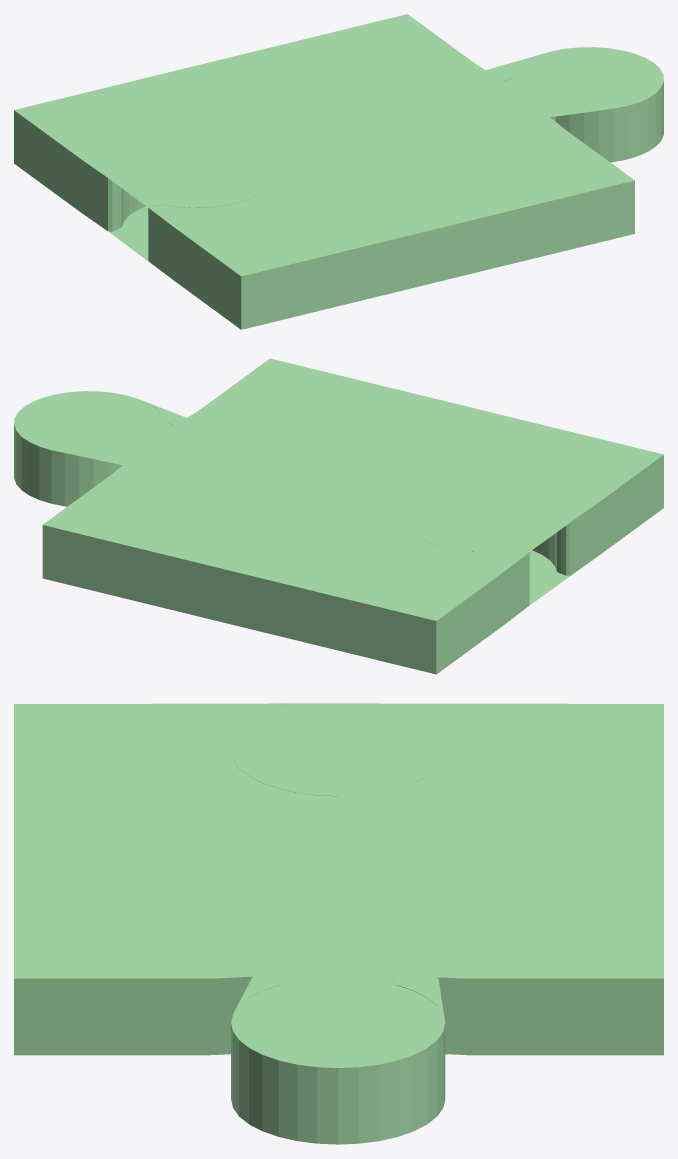
File: block_1.fbx
3 renders of one model, top to bottom at view 1: azimuth 30°, elevation 25°; view 2: azimuth 150°, elevation 25°; view 3: azimuth 270°, elevation 25°, orthographic. The views are drawn at different scales.
Visible parts, largest first — view 1: Plane.001; view 2: Plane.001; view 3: Plane.001.
Part boxes in pixels (box(x1,y1,x2,y2)): Plane.001: box(14, 14, 663, 329); Plane.001: box(14, 358, 663, 674); Plane.001: box(14, 703, 663, 1144).
Bounding box in the file's own units: 134 × 13.53 × 100.
